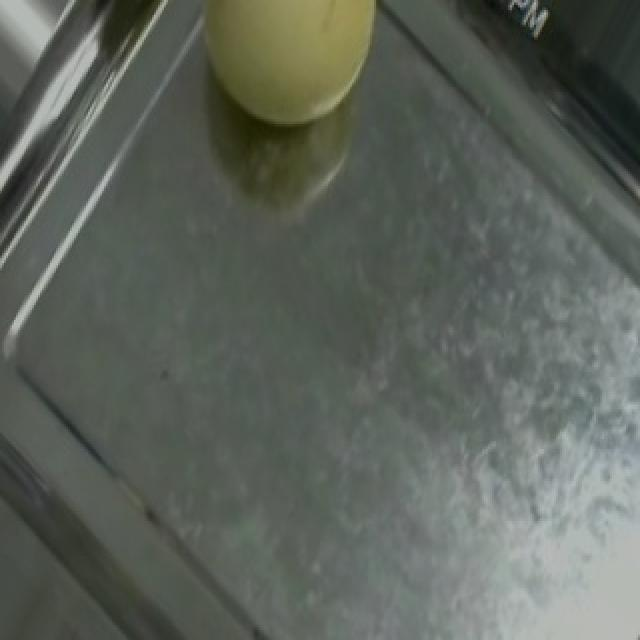Fruit: (158, 0, 404, 154)
